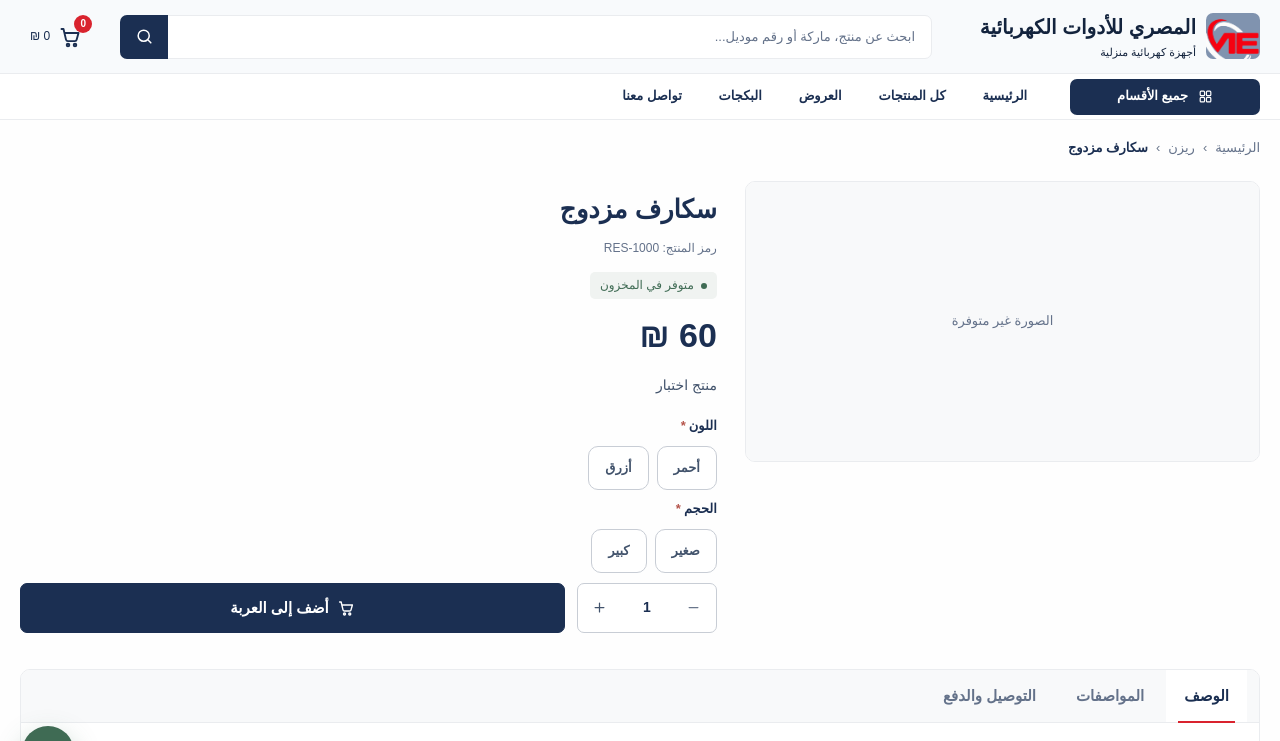
storefront multi-axis selection › refuses a combination whose variant is inactive
The width and height of the screenshot is (1280, 741).
Click the button "أزرق": (618, 468) [588,446,649,490]
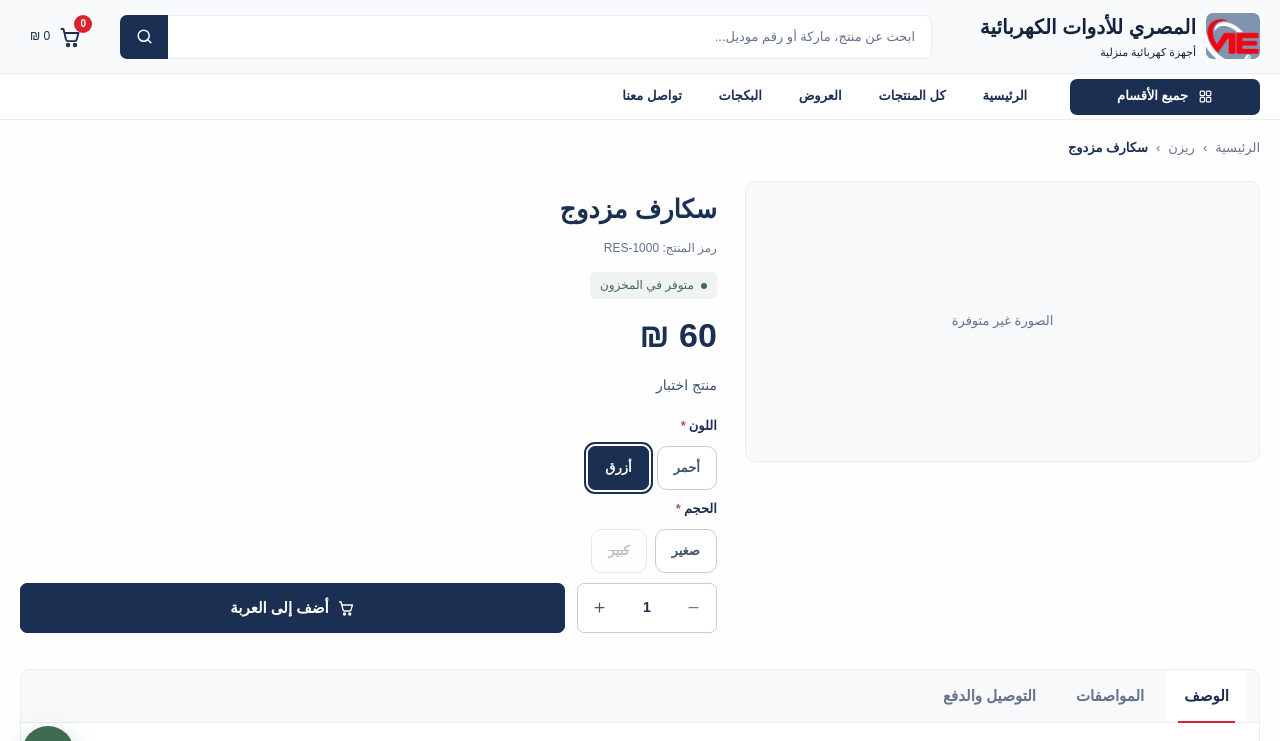
Expected: the button "كبير" is disabled, [591,529,646,573]
Click the button "أضف إلى العربة": (292, 608) [20,583,565,633]
(page scrolled)
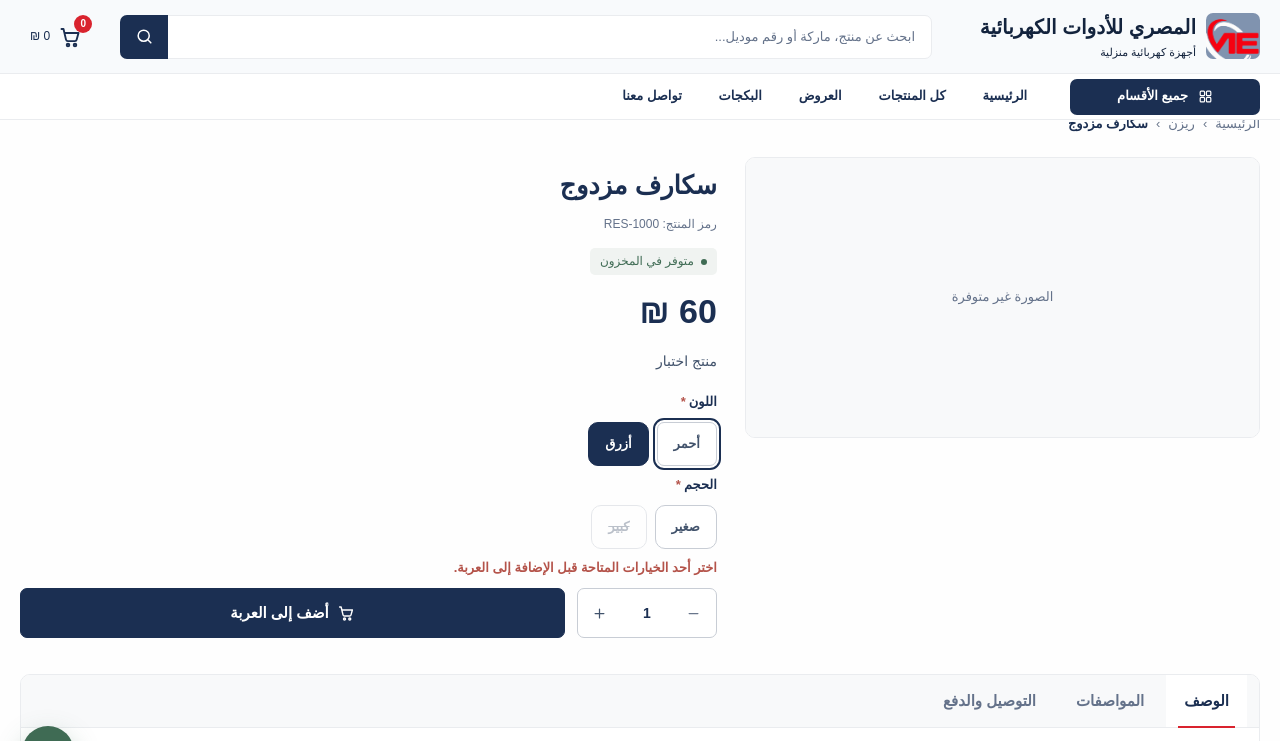
Expected: the message shows "اختر أحد الخيارات", [454,560,717,575]
